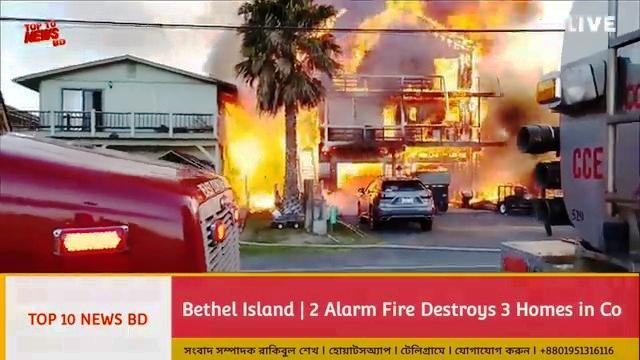fire: (221, 103, 323, 188), (437, 52, 494, 106), (405, 137, 475, 167), (335, 159, 388, 191)
